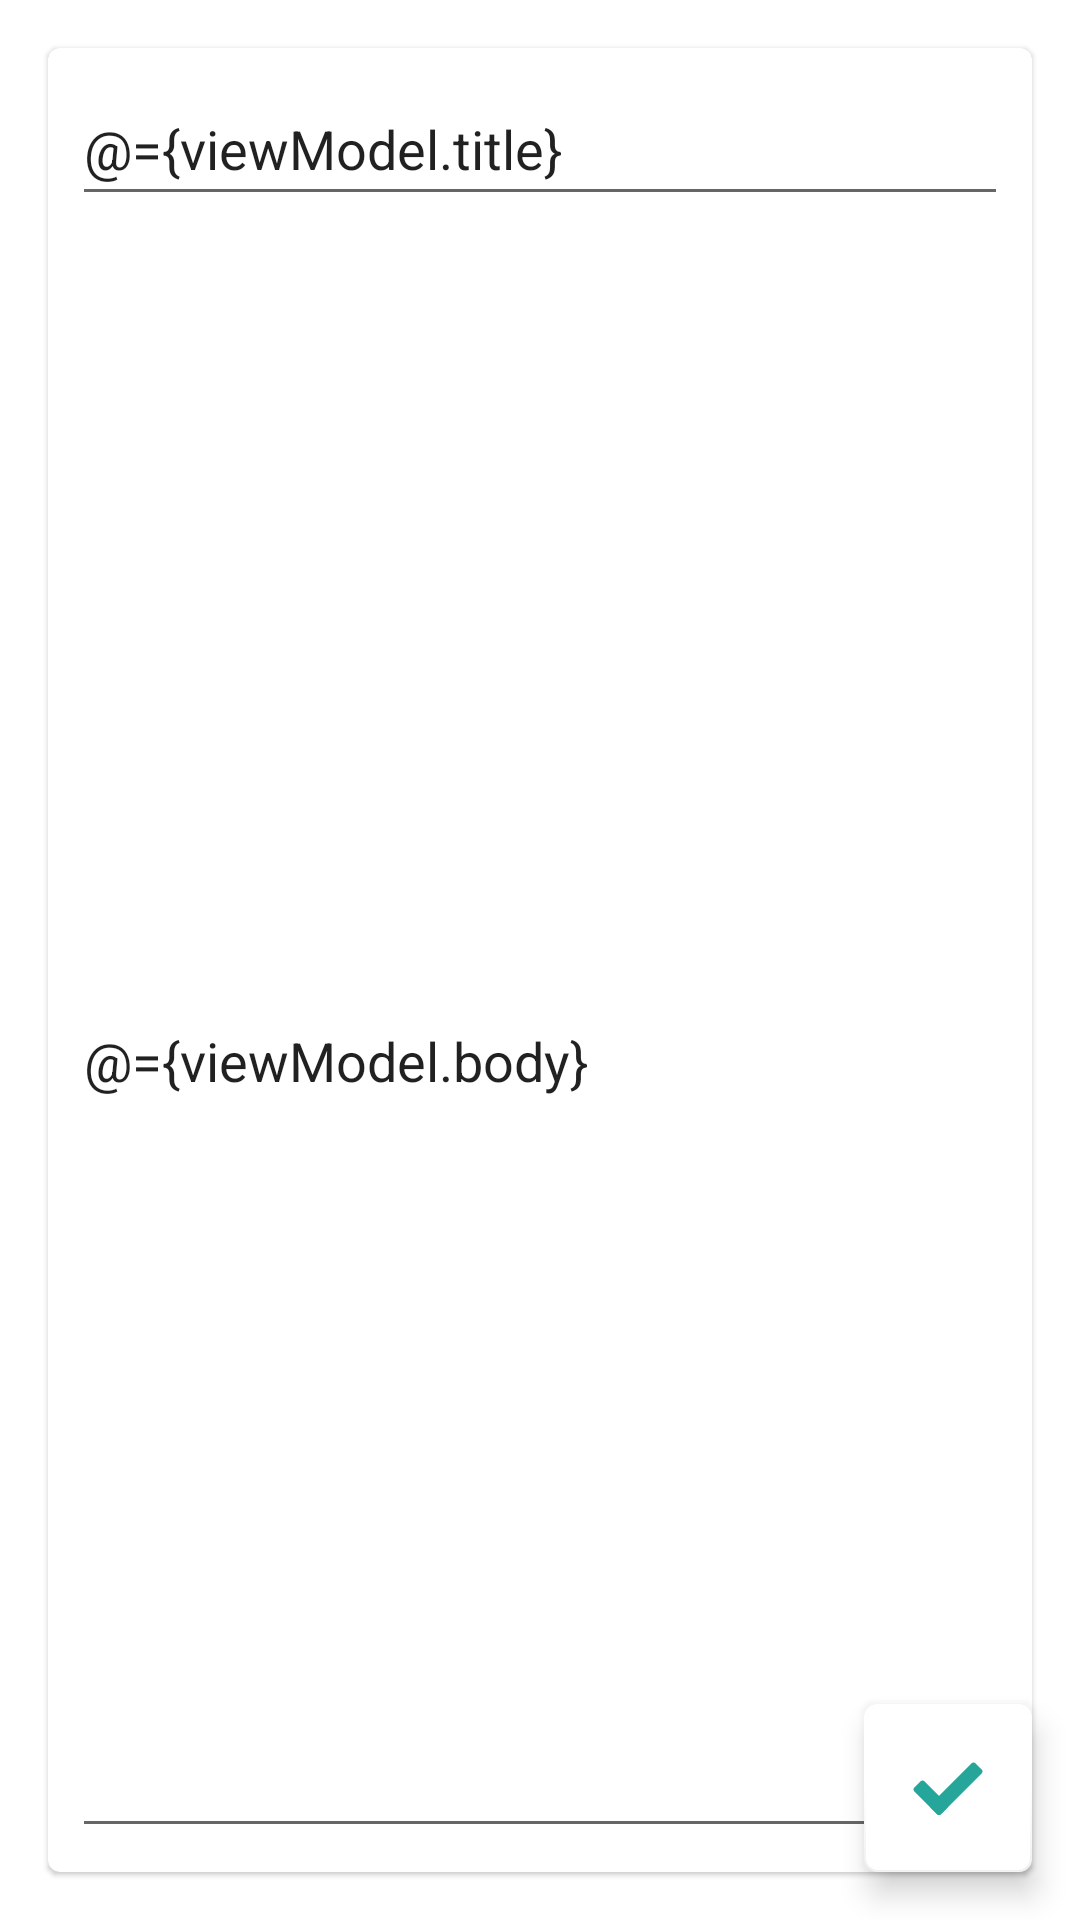

Screen size 1080px x 1920px. Icon name, then its box in pixels as (x1, y1, x2, y2):
Add Task: (913, 1762, 983, 1815)
